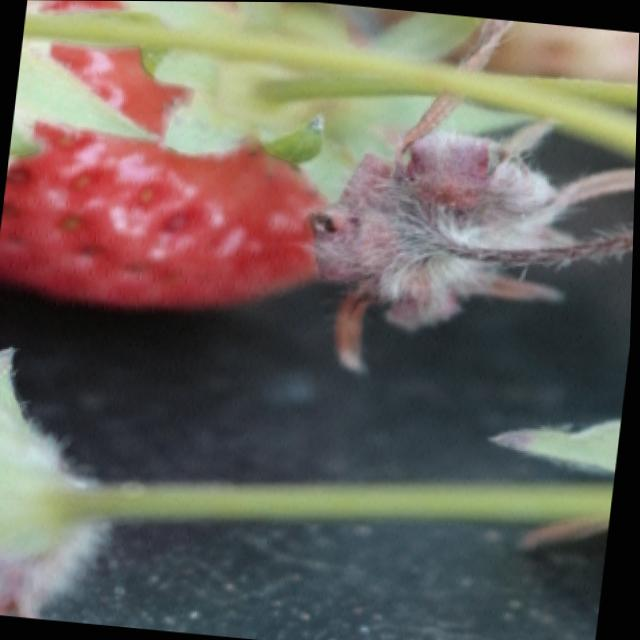Gray Mold: (307, 16, 636, 374)
